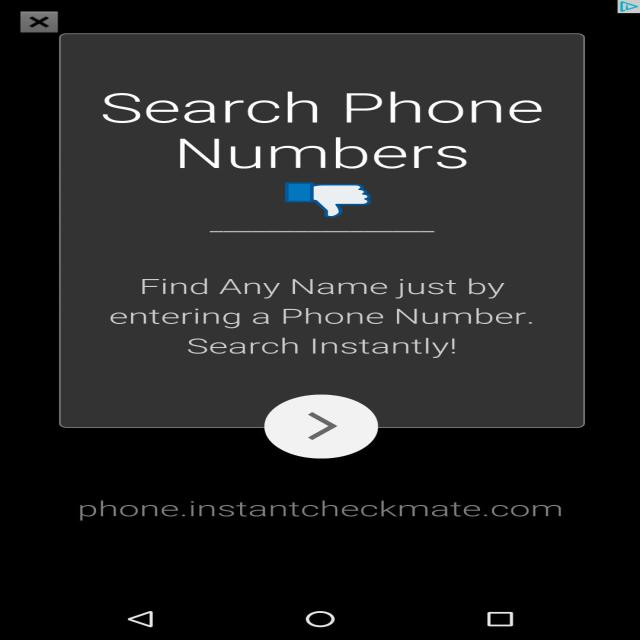obstruction: (285, 182, 371, 218)
